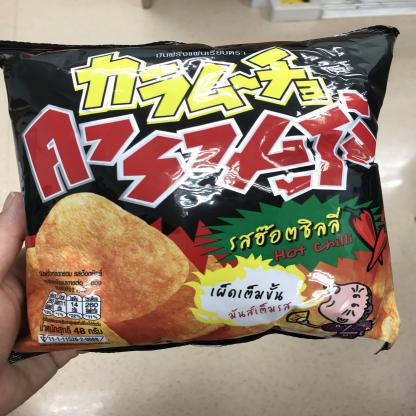potatochip: (0, 25, 416, 364)
